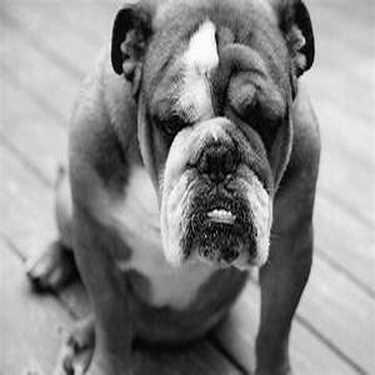dog: (22, 1, 328, 374)
